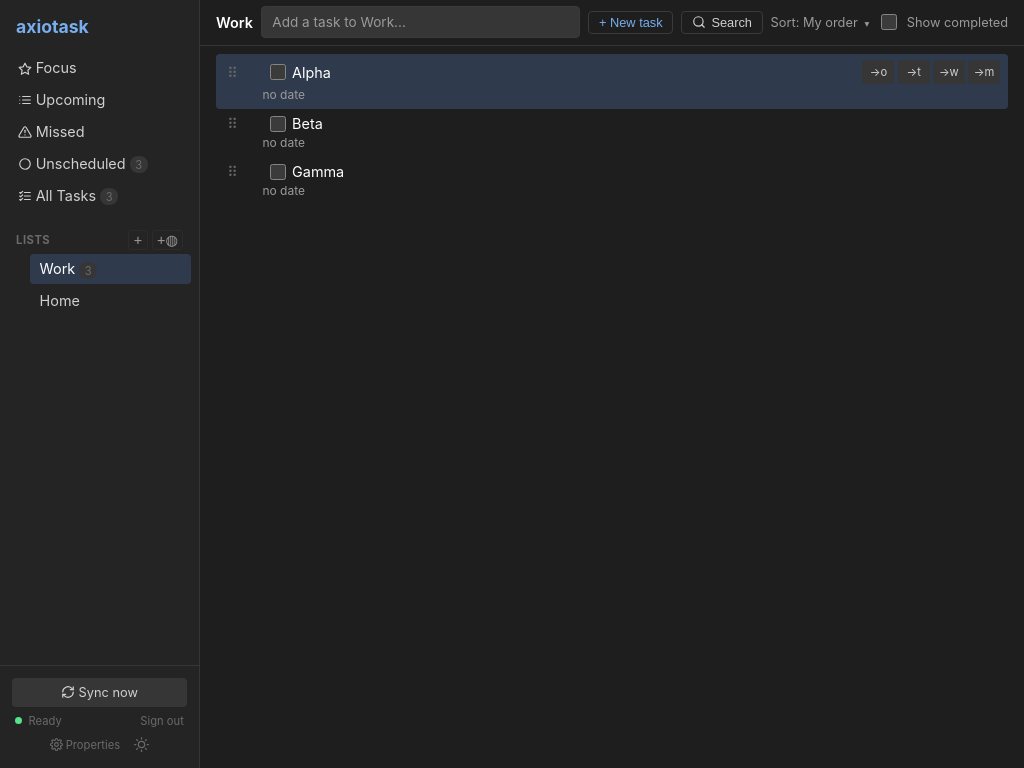
Test: Bulk operations › Ctrl/Cmd-click on a row selects it
The image size is (1024, 768).
Expected: the text "Alpha" is shown, [292, 64, 331, 81]
Click the text "Beta". click: (307, 124)
box: [292, 115, 323, 132]
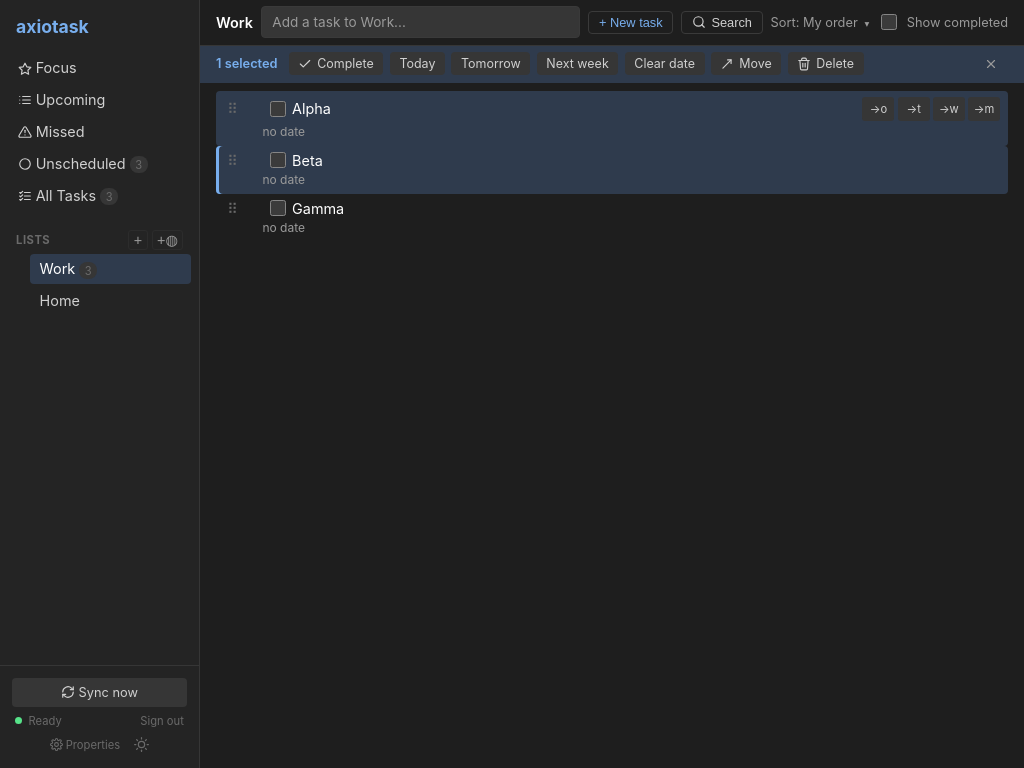
Expected: the element with class "bulk-bar" shows "1 selected", [216, 56, 278, 71]
